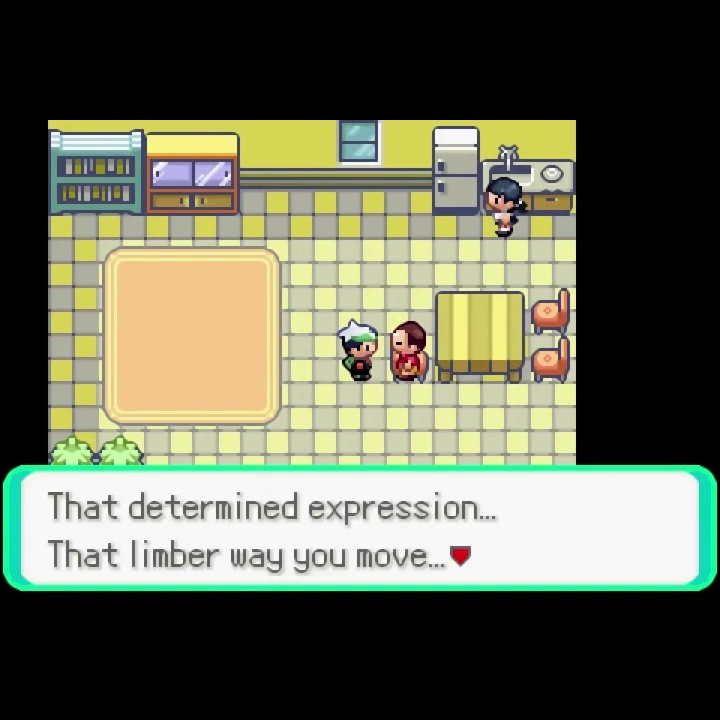npc: (337, 315, 382, 383), (386, 318, 430, 385), (484, 175, 529, 240)
